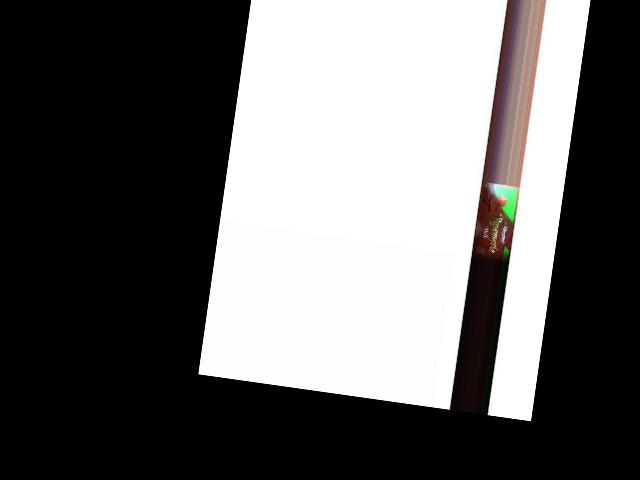chocolate: (471, 182, 518, 264)
